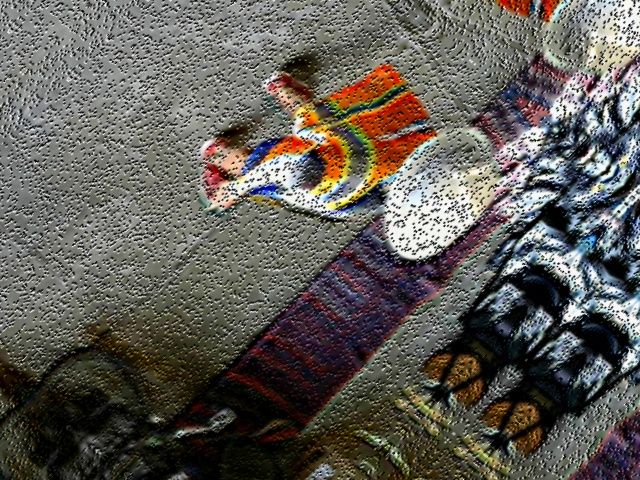two: (443, 138, 494, 185)
